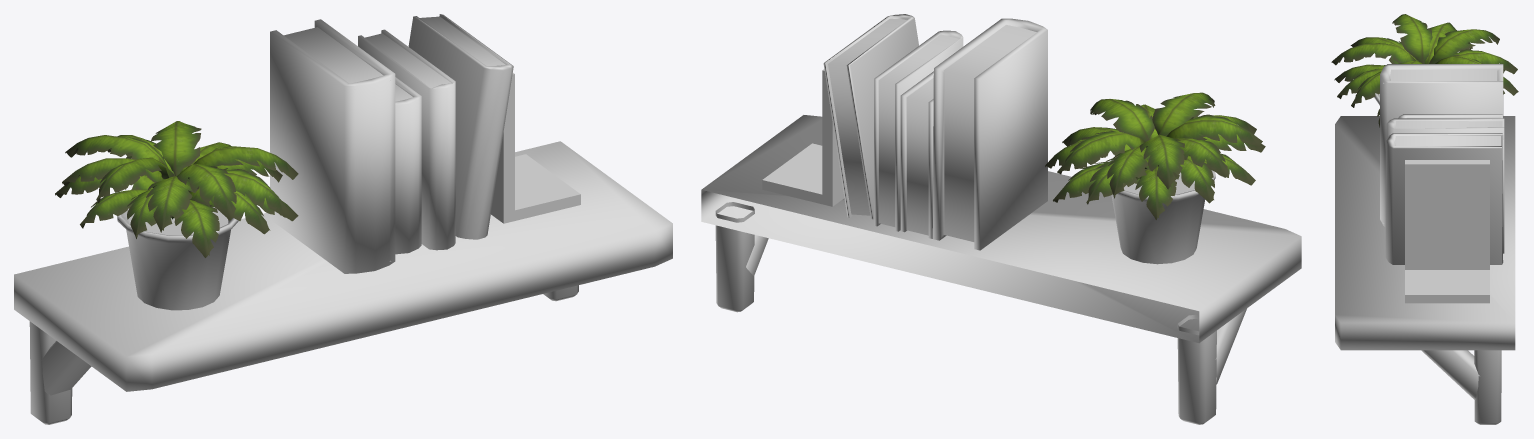
File: Estanteria1_LOW.fbx
3 renders of one model, left to right at view 1: azimuth 30°, elevation 25°; view 2: azimuth 150°, elevation 25°; view 3: azimuth 270°, elevation 25°, orthographic. The views are drawn at different scales.
Parts seen in each view (by area): view 1: Estanteria1_LOW, Libros1_LOW, Planta1_LOW, Sujetalibros_LOW; view 2: Estanteria1_LOW, Libros1_LOW, Planta1_LOW, Sujetalibros_LOW; view 3: Estanteria1_LOW, Libros1_LOW, Sujetalibros_LOW, Planta1_LOW.
Part boxes in pixels (x1,y1,x2,y2): Estanteria1_LOW: [14, 141, 672, 424]; Libros1_LOW: [270, 14, 513, 273]; Planta1_LOW: [55, 121, 298, 310]; Sujetalibros_LOW: [491, 72, 580, 223]; Estanteria1_LOW: [701, 115, 1301, 424]; Libros1_LOW: [823, 14, 1047, 250]; Planta1_LOW: [1045, 92, 1265, 264]; Sujetalibros_LOW: [762, 69, 844, 206]; Estanteria1_LOW: [1335, 116, 1515, 424]; Libros1_LOW: [1380, 64, 1504, 264]; Sujetalibros_LOW: [1405, 160, 1489, 303]; Planta1_LOW: [1331, 14, 1518, 127].
Size of the model in its own units: 339 by 192 by 131.
